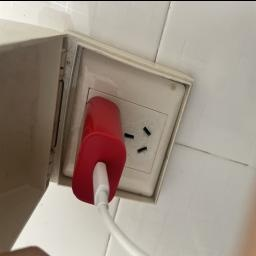outlet: (47, 32, 200, 224)
